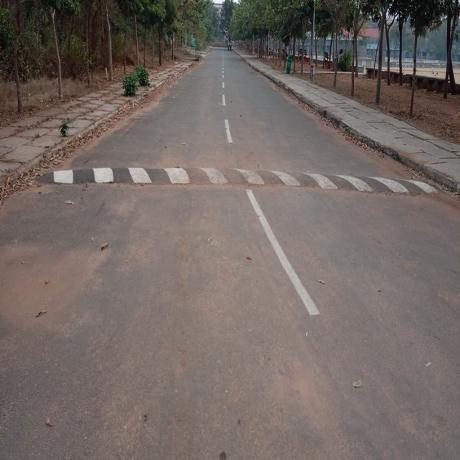Speed Bump: (39, 164, 440, 196)
